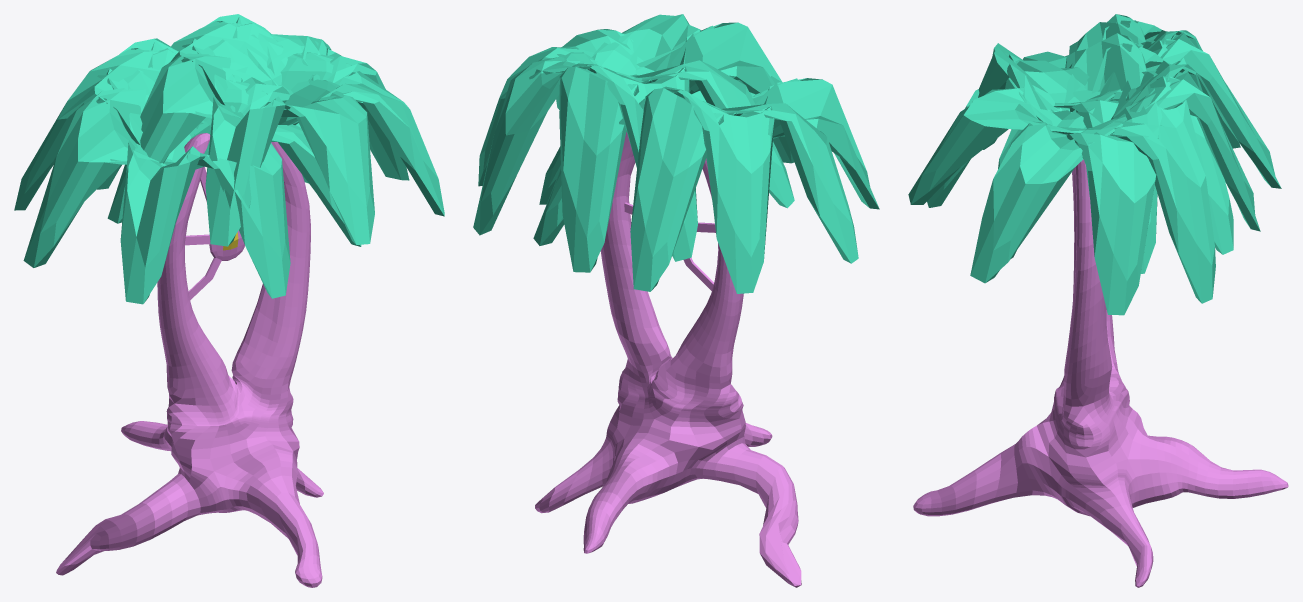
Rendered from tree3.glb.
3 views of the same model, side by side, from view 1: azimuth 30°, elevation 25°; view 2: azimuth 150°, elevation 25°; view 3: azimuth 270°, elevation 25° (orthographic).
Visible parts, largest first — view 1: tree_active_tree; view 2: tree_active_tree; view 3: tree_active_tree.
Part boxes in pixels (x1,y1,x2,y2): tree_active_tree: (14, 14, 444, 587); tree_active_tree: (473, 14, 879, 587); tree_active_tree: (908, 14, 1288, 587).
Bounding box in the file's own units: 5.09 × 6.33 × 4.42.
